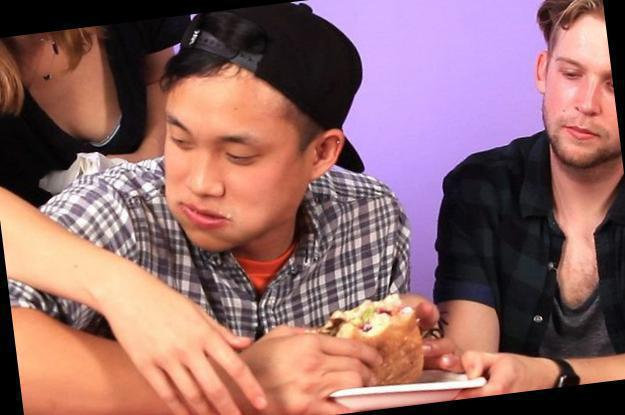Drunk: (161, 76, 289, 250), (543, 16, 617, 163)
